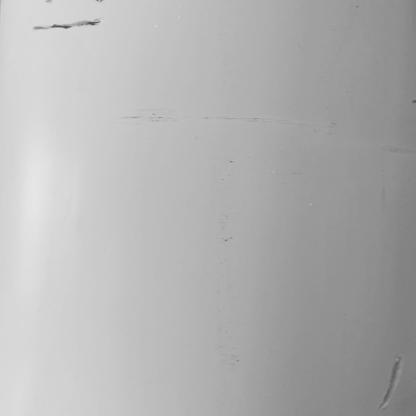fengxi: (28, 18, 105, 30)
sunshang: (374, 355, 404, 409)
